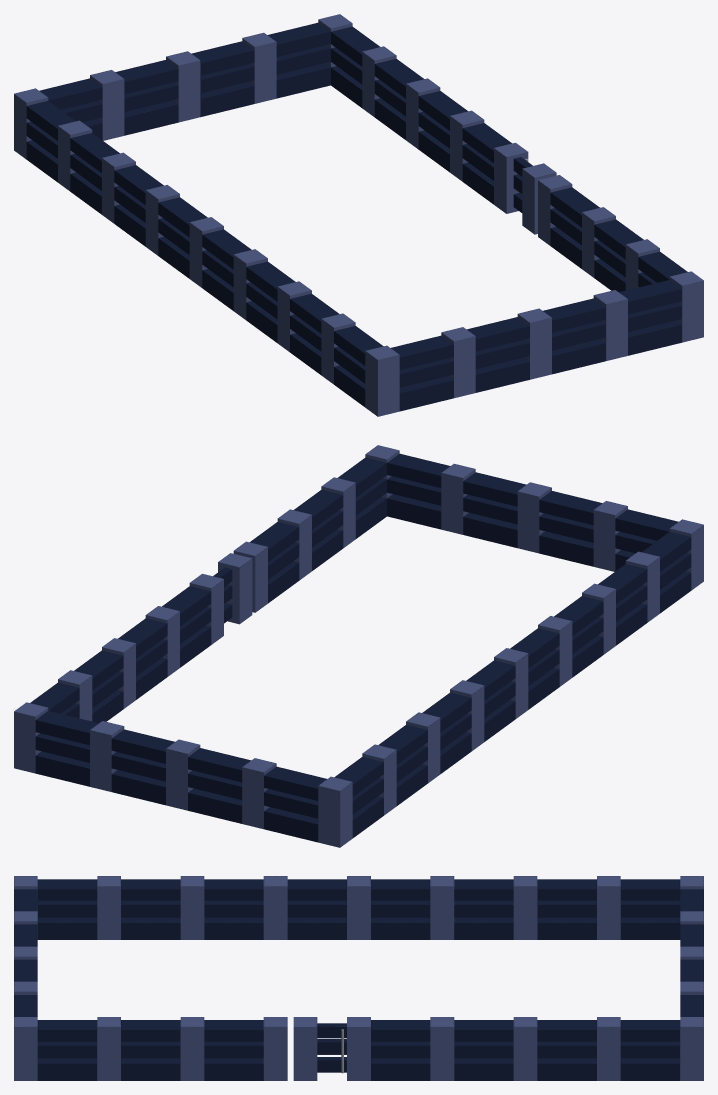
Rendered from fence1.fbx.
3 renders of one model, top to bottom at view 1: azimuth 30°, elevation 25°; view 2: azimuth 150°, elevation 25°; view 3: azimuth 270°, elevation 25°, orthographic. The views are drawn at different scales.
Parts seen in each view (by area): view 1: Cube.006, Cube.007, Cube.008, Cube.018, Cube.019, Cube.020, Cube.021, Cube.017, Cube.013, Cube.014, Cube.011, Cube.010 (+12 smaller); view 2: Cube.009, Cube.006, Cube.007, Cube.019, Cube.020, Cube.008, Cube.021, Cube.018, Cube.024, Cube.010, Cube.001, Cube.023 (+12 smaller); view 3: Cube.001, Cube.002, Cube.011, Cube.012, Cube.014, Cube.015, Cube.023, Cube.024, Cube.003, Cube.005, Cube.010, Cube.013 (+12 smaller).
Boxes of the visible parts, box(x1,y1,x2,y2) form: Cube.006: box(242, 22, 330, 103); Cube.007: box(166, 41, 254, 122); Cube.008: box(90, 60, 178, 140); Cube.018: box(391, 327, 475, 411); Cube.019: box(467, 308, 551, 392); Cube.020: box(543, 290, 627, 374); Cube.021: box(619, 271, 703, 355); Cube.017: box(334, 326, 399, 416); Cube.013: box(158, 197, 223, 287); Cube.014: box(202, 229, 267, 319); Cube.011: box(70, 133, 135, 223); Cube.010: box(26, 101, 92, 191); Cube.009: box(264, 766, 352, 847); Cube.006: box(35, 711, 124, 791); Cube.007: box(111, 729, 200, 810); Cube.019: box(517, 482, 602, 566); Cube.020: box(441, 463, 526, 548); Cube.008: box(188, 748, 276, 829); Cube.021: box(365, 445, 450, 529); Cube.018: box(593, 501, 678, 571); Cube.024: box(233, 522, 299, 612); Cube.010: box(334, 744, 396, 838); Cube.001: box(145, 586, 211, 676); Cube.023: box(277, 489, 343, 580); Cube.001: box(371, 1017, 454, 1080); Cube.002: box(454, 1017, 537, 1080); Cube.011: box(513, 876, 596, 939); Cube.012: box(430, 876, 513, 939); Cube.014: box(263, 876, 346, 939); Cube.015: box(180, 876, 263, 939); Cube.023: box(121, 1017, 204, 1080); Cube.024: box(204, 1017, 287, 1080); Cube.003: box(537, 1017, 620, 1080); Cube.005: box(620, 1017, 703, 1080); Cube.010: box(597, 876, 680, 939); Cube.013: box(347, 876, 430, 939).
Size of the model in its own units: 6000 by 1000 by 11600.
Materials: 3 (3 with a texture image).
